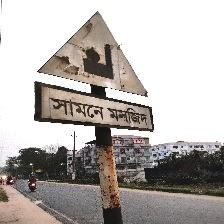Mosque in front: (35, 11, 153, 131)
